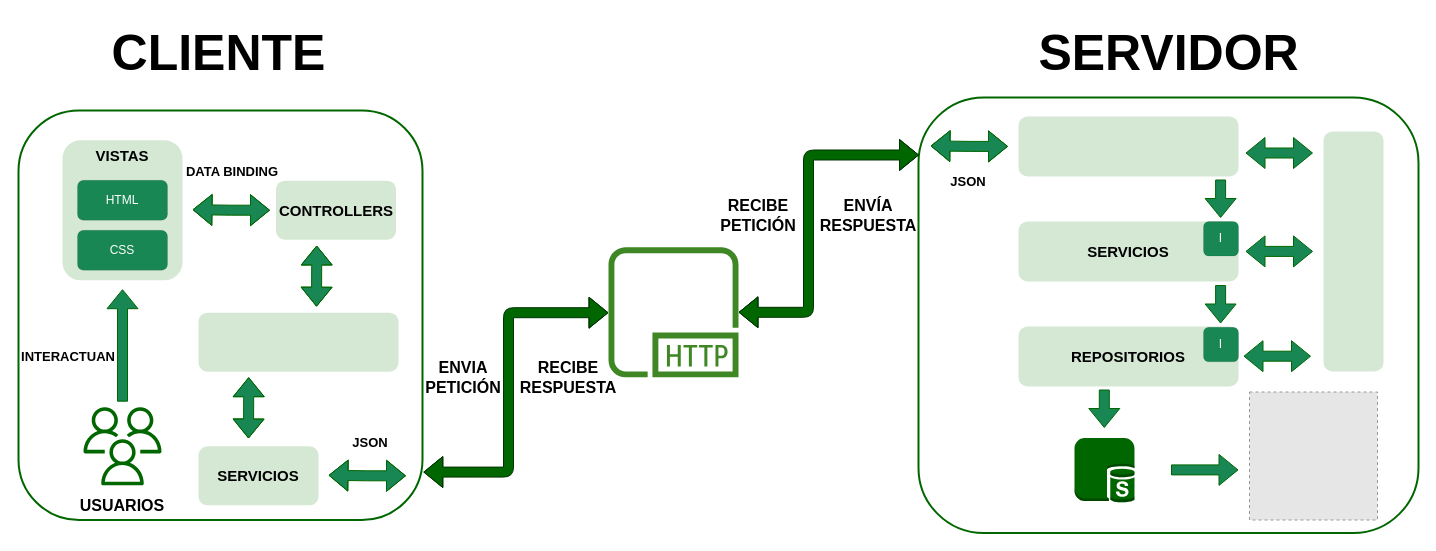
The diagram is 1436 pixels wide and 551 high, and some of its shapes have lost their labels. Grey dashed boxes stand in for pictures. Here are the shapes that lost their labels. From the top down, the centre of each, then its label:
At [1128,146]: "CONTROLADORES".
At [1353,251]: "D T O".
At [298,341]: "MODELO DE DATOS".
At [1104,469]: "SPRING JPA".
